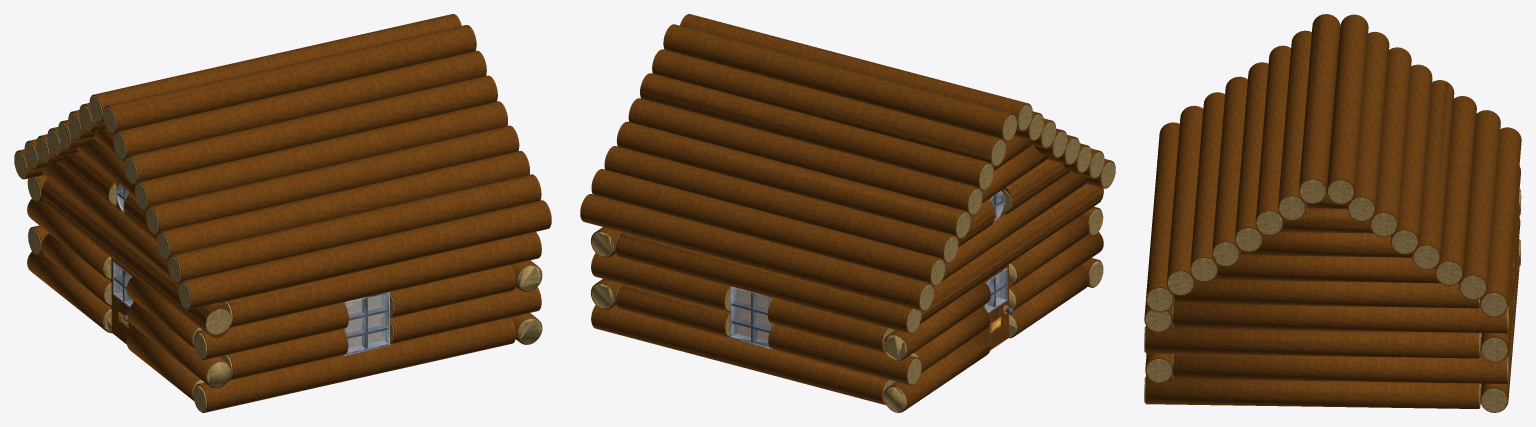
Rendered from ep5t-nha-go-vach.glb.
3 renders of one model, left to right at view 1: azimuth 30°, elevation 25°; view 2: azimuth 150°, elevation 25°; view 3: azimuth 270°, elevation 25°, orthographic. The views are drawn at different scales.
Visible parts, largest first — view 1: ep5t-nha-go-vach; view 2: ep5t-nha-go-vach; view 3: ep5t-nha-go-vach.
Boxes of the visible parts, x1,y1,x2,y2 form: ep5t-nha-go-vach: [14, 14, 551, 412]; ep5t-nha-go-vach: [580, 14, 1115, 412]; ep5t-nha-go-vach: [1144, 14, 1521, 412].
Size of the model in its own units: 41.49 by 26.96 by 38.86.
16 materials, 13 textured.
